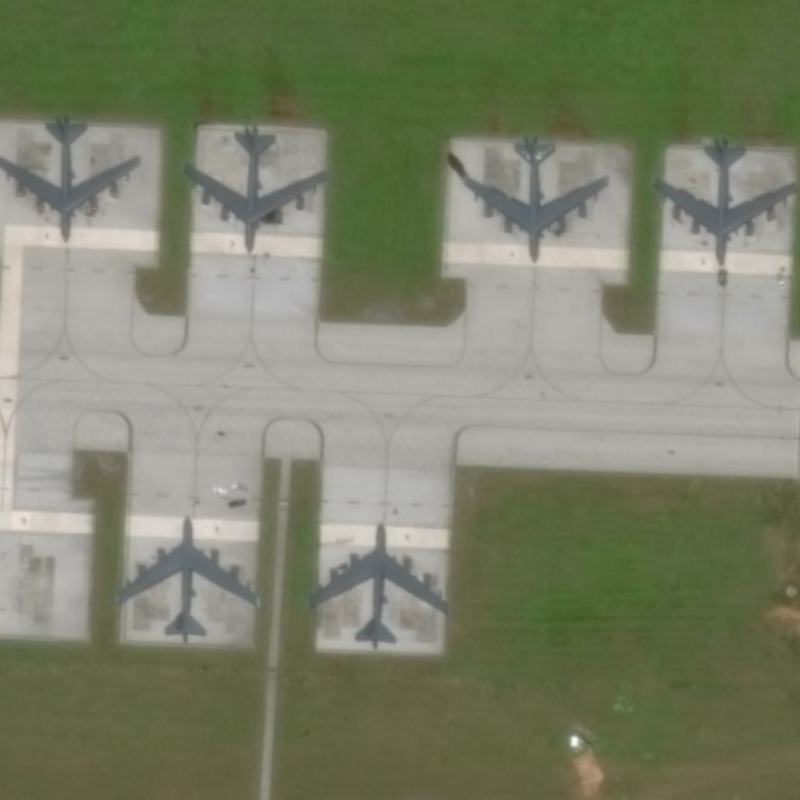A8: (647, 129, 800, 272), (458, 131, 615, 270), (106, 507, 264, 645), (1, 107, 147, 255), (179, 122, 336, 259), (304, 514, 457, 654)
